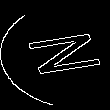N_E: (9, 29, 101, 81)
